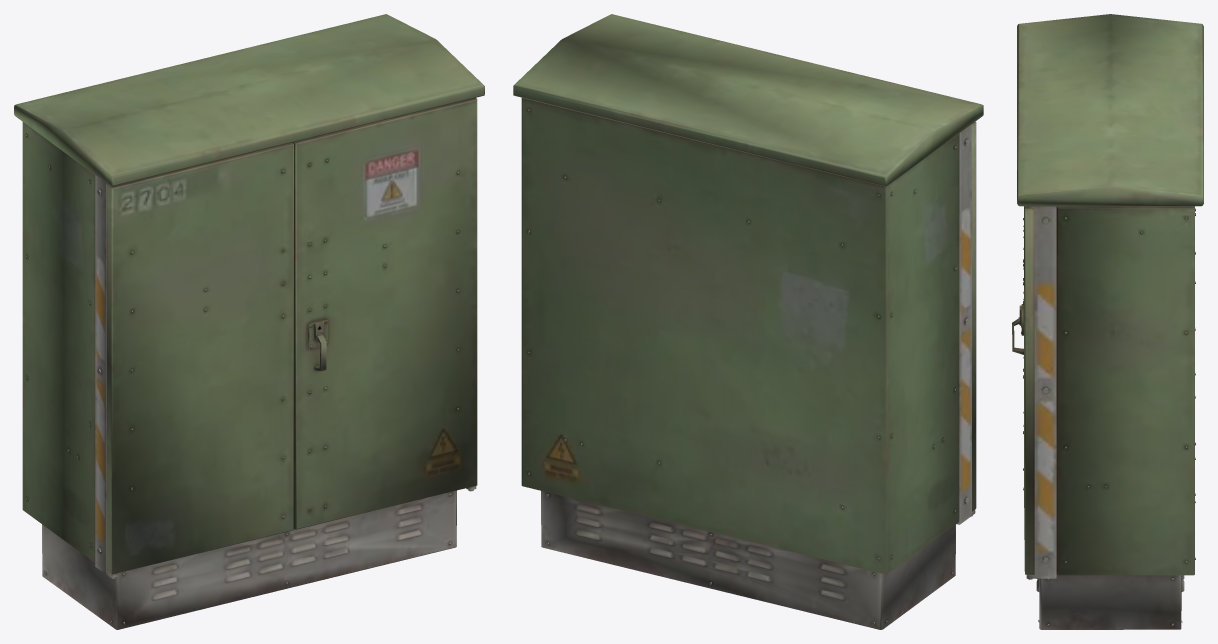
The model's file is utility_box_02.glb.
3 renders of one model, left to right at view 1: azimuth 30°, elevation 25°; view 2: azimuth 150°, elevation 25°; view 3: azimuth 270°, elevation 25°, orthographic. The views are drawn at different scales.
Visible parts, largest first — view 1: utility_box_02; view 2: utility_box_02; view 3: utility_box_02.
Boxes of the visible parts, box(x1,y1,x2,y2) form: utility_box_02: box(14, 14, 484, 629); utility_box_02: box(513, 14, 983, 629); utility_box_02: box(1012, 14, 1203, 629).
Size of the model in its own units: 0.92 by 1.12 by 0.4311.
Materials: 1 (1 with a texture image).
